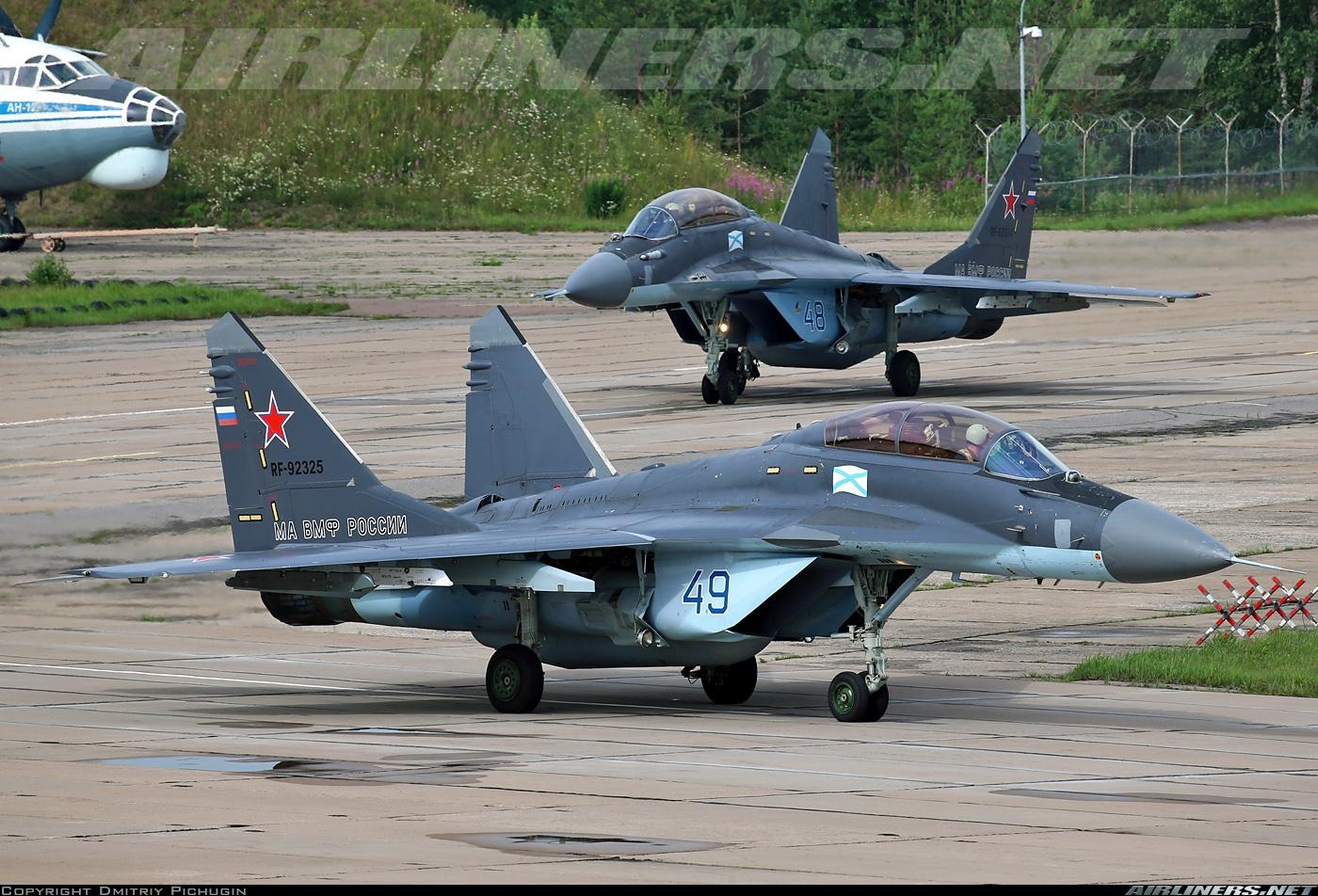aircraft: (12, 303, 1259, 720), (535, 40, 1210, 403), (0, 5, 187, 251)
